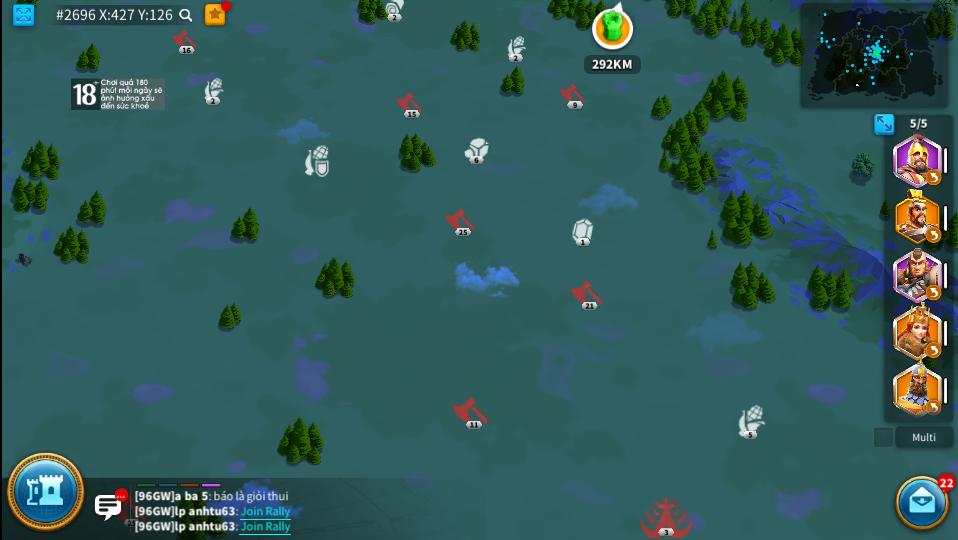gem-z-out: (572, 219, 592, 247)
march_idle: (569, 280, 606, 311), (454, 400, 488, 429), (391, 91, 424, 119), (449, 209, 475, 236), (563, 82, 585, 108), (175, 31, 196, 52)
march_returning: (925, 228, 942, 242), (926, 170, 940, 185), (927, 400, 941, 415), (926, 285, 940, 299), (928, 343, 940, 357)
